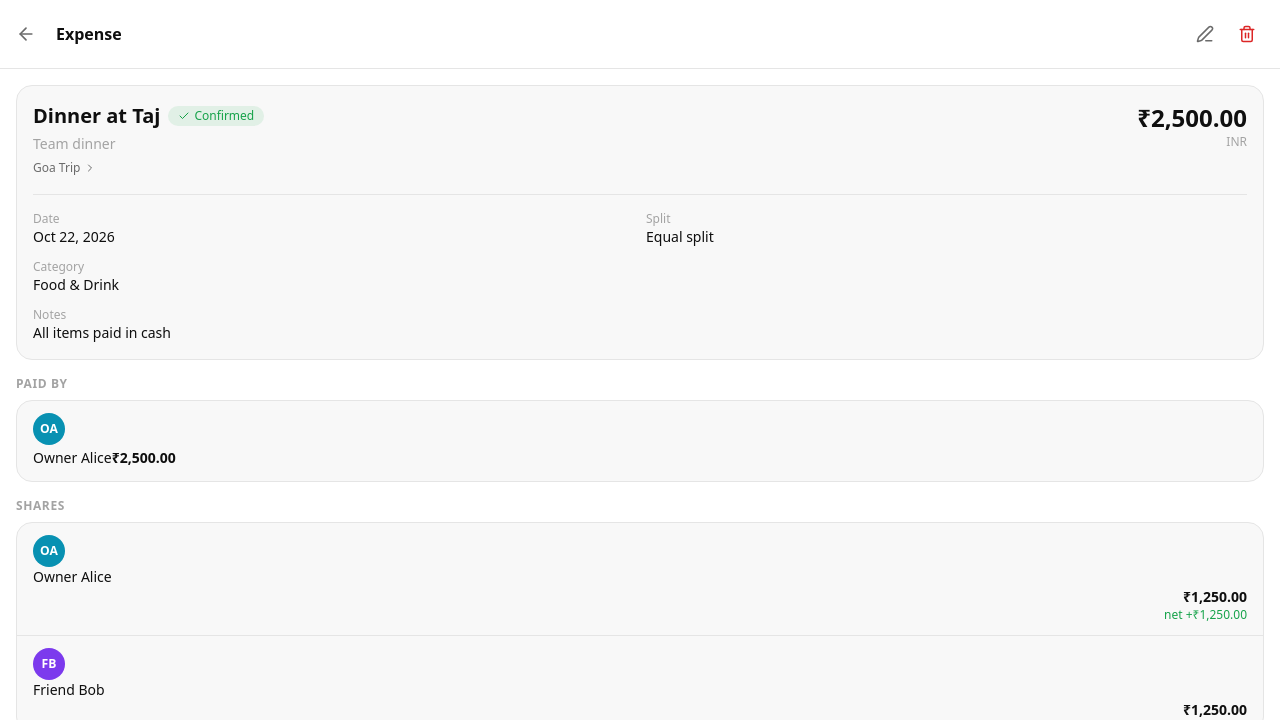
Test: ExpenseDetailPage owner-only deletion › requires explicit confirmation clearly identifying the expense and allows cancellation
Click the button named "Delete expense": coordinates (1247, 34) [1230,12,1264,56]
(page scrolled)
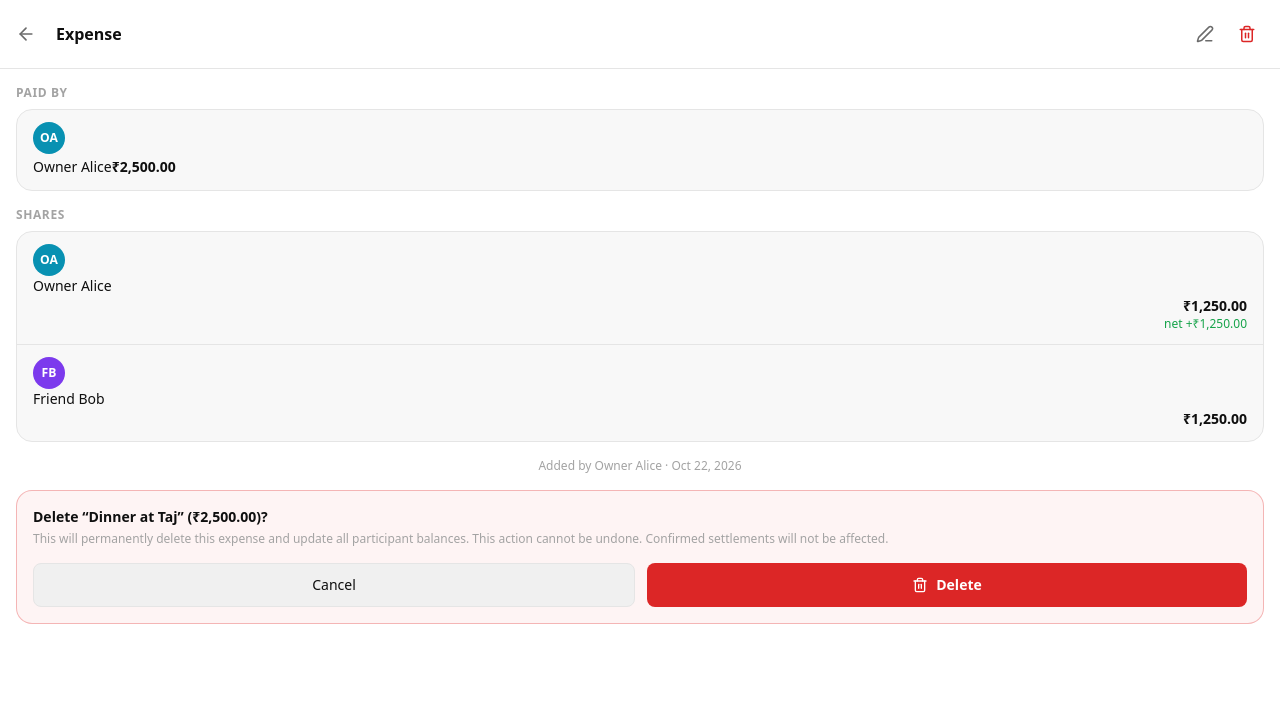
Check: the text "Delete “Dinner at Taj” (₹2,500.00)?" is shown, box [33,507,268,526]
Check: the dialog is shown, box [16,490,1264,624]
# Cancel leaves the expense untouched
Click the button "Cancel": coordinates (334, 585) [33,563,635,607]
(page scrolled)
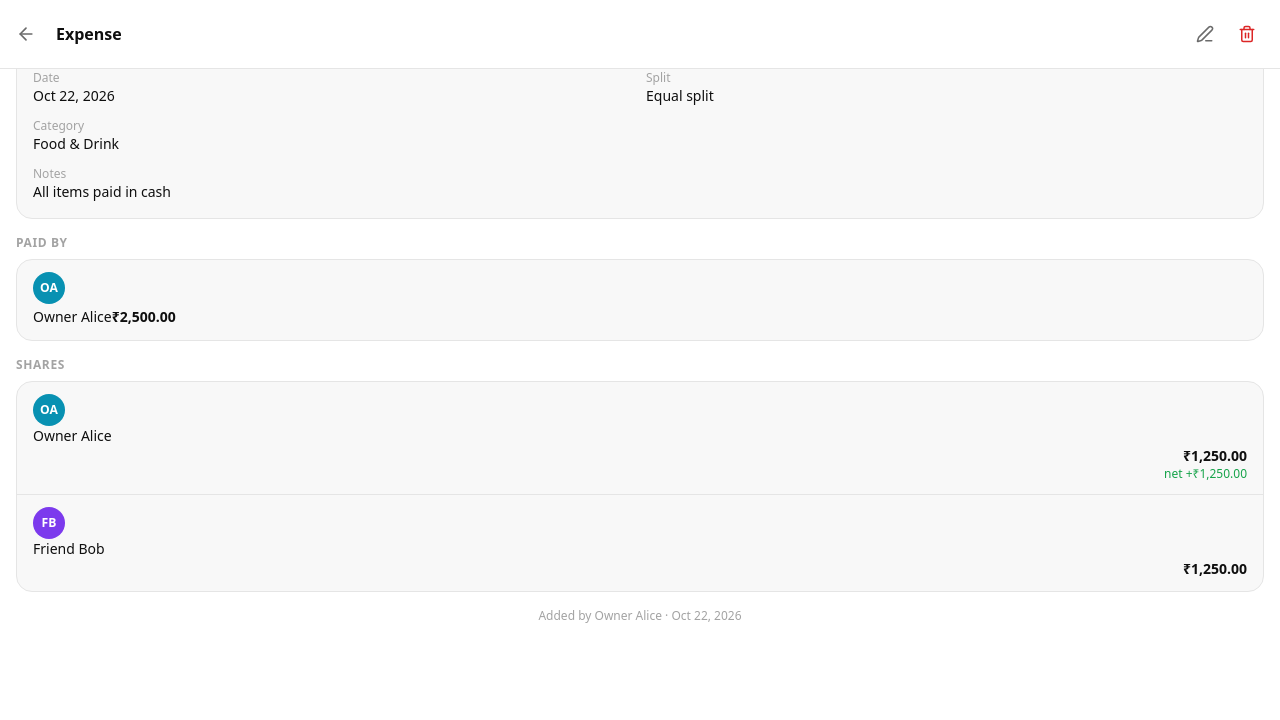
Check: the dialog is gone
